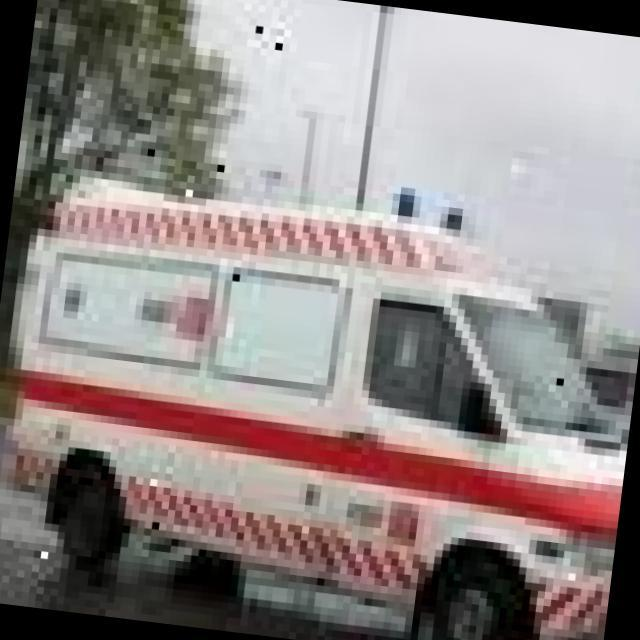emergency-vehicle: (7, 159, 640, 640)
